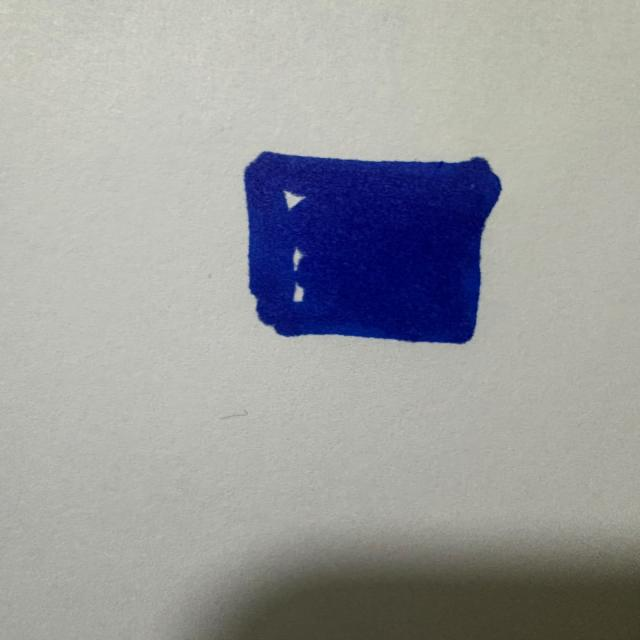Square: (244, 152, 501, 344)
